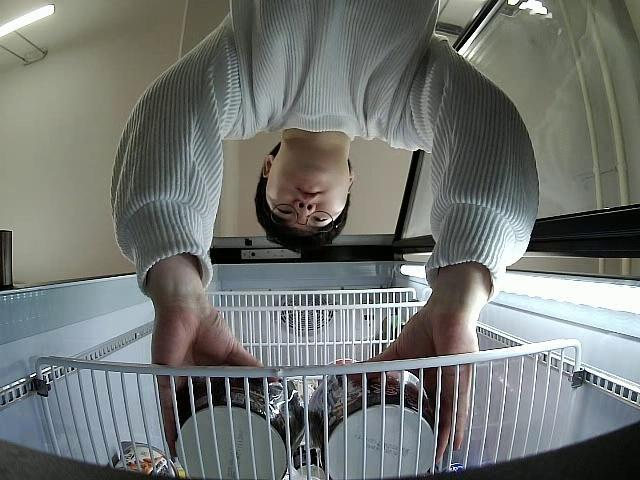07_buldak_L: (308, 373, 439, 480), (174, 376, 305, 480)
